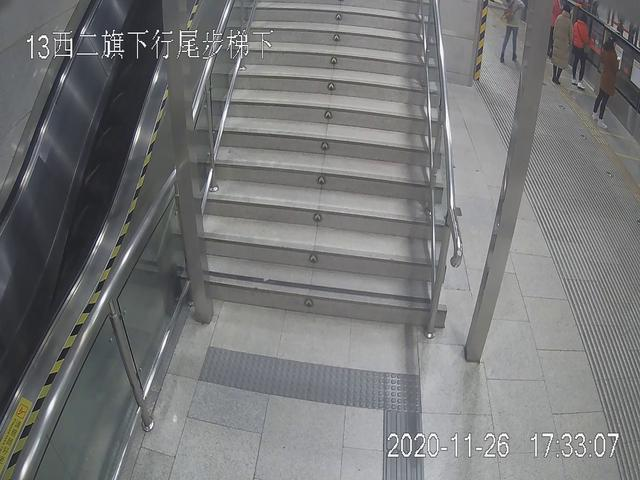person: (544, 1, 582, 83), (592, 35, 623, 123), (572, 4, 590, 92), (501, 1, 523, 67)
